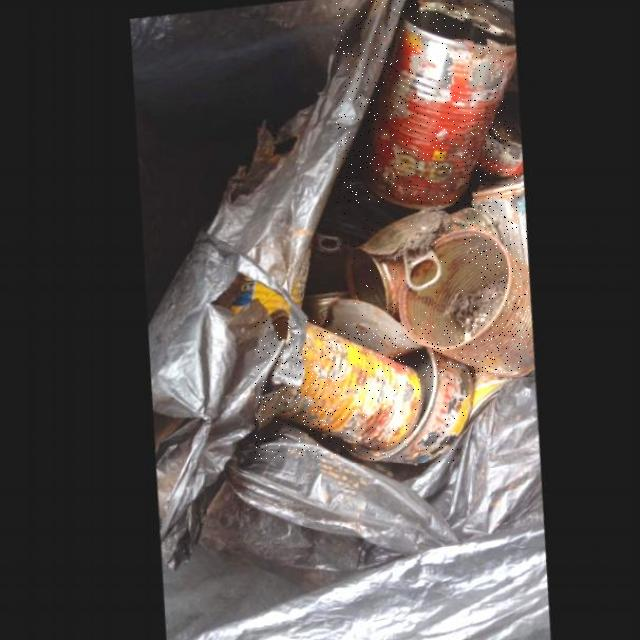metal: (337, 1, 505, 209), (256, 320, 418, 459), (390, 228, 529, 376), (339, 204, 479, 324), (337, 345, 468, 463), (463, 174, 521, 263), (467, 121, 514, 184)
